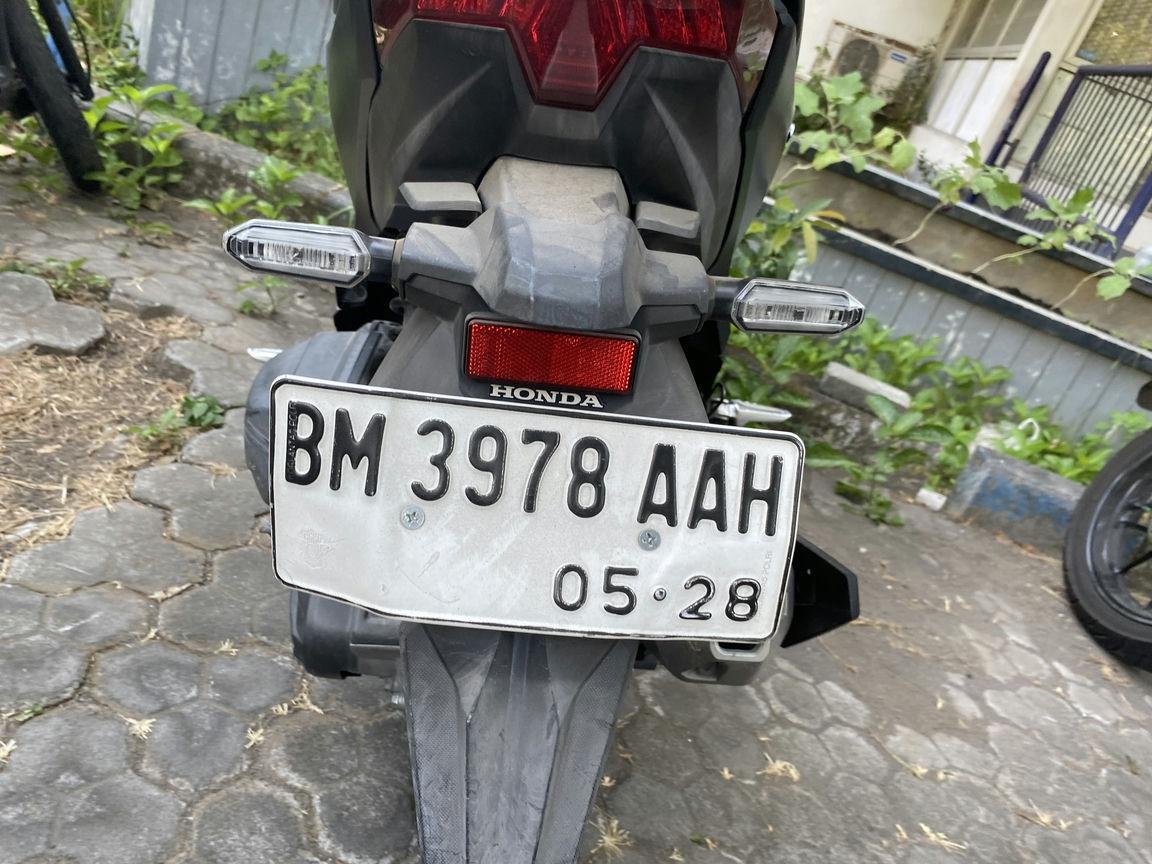plat: (270, 376, 803, 641)
